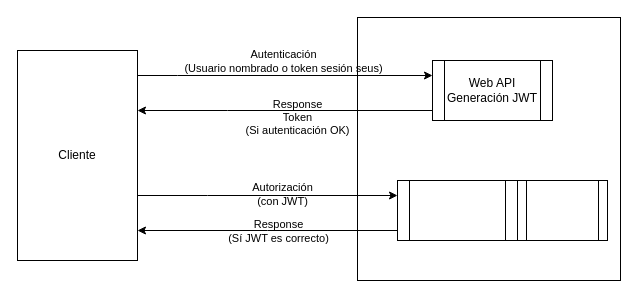
The diagram is 638 pixels wide and 298 high, and some of its shapes have lost their labels. The shapes that lost their labels are listed below. From the top down, each one's centre as x and y in pixels, then its label:
At pixel 457 210: "Web Filter Validar JWT".
At pixel 562 210: "Web API".
